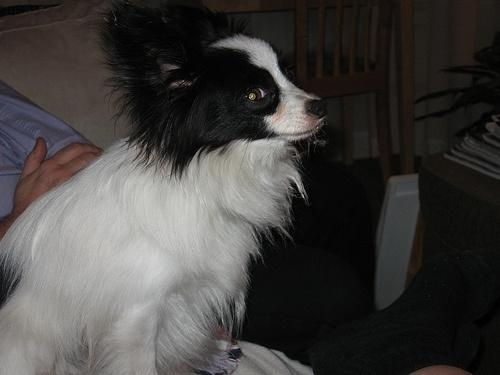dog: (2, 2, 328, 374)
